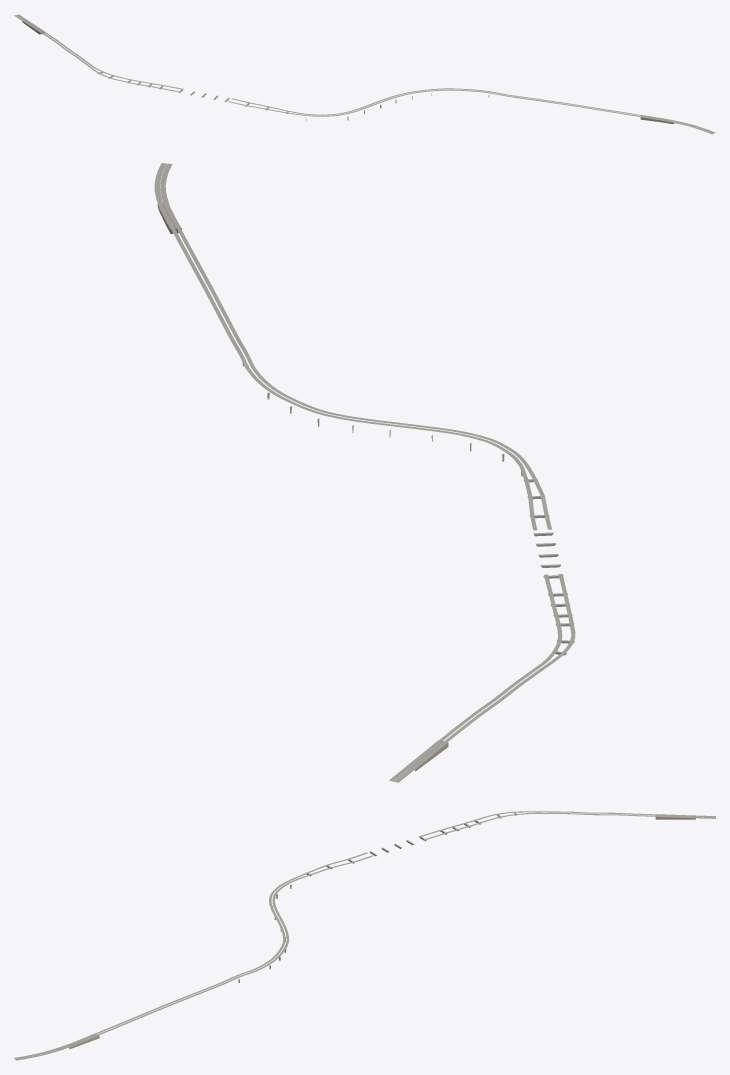
Rendered from br_t127_davies_1_lod2.gltf.
3 renders of one model, top to bottom at view 1: azimuth 30°, elevation 25°; view 2: azimuth 150°, elevation 25°; view 3: azimuth 270°, elevation 25°, orthographic. The views are drawn at different scales.
Visible parts, largest first — view 1: br_t127_davies_1_lod2; view 2: br_t127_davies_1_lod2; view 3: br_t127_davies_1_lod2.
Boxes of the visible parts, x1=… form: br_t127_davies_1_lod2: x1=14, y1=14, x2=715, y2=134; br_t127_davies_1_lod2: x1=154, y1=163, x2=575, y2=782; br_t127_davies_1_lod2: x1=14, y1=811, x2=715, y2=1060.
Bounding box in the file's own units: 840 × 20.68 × 1036.
